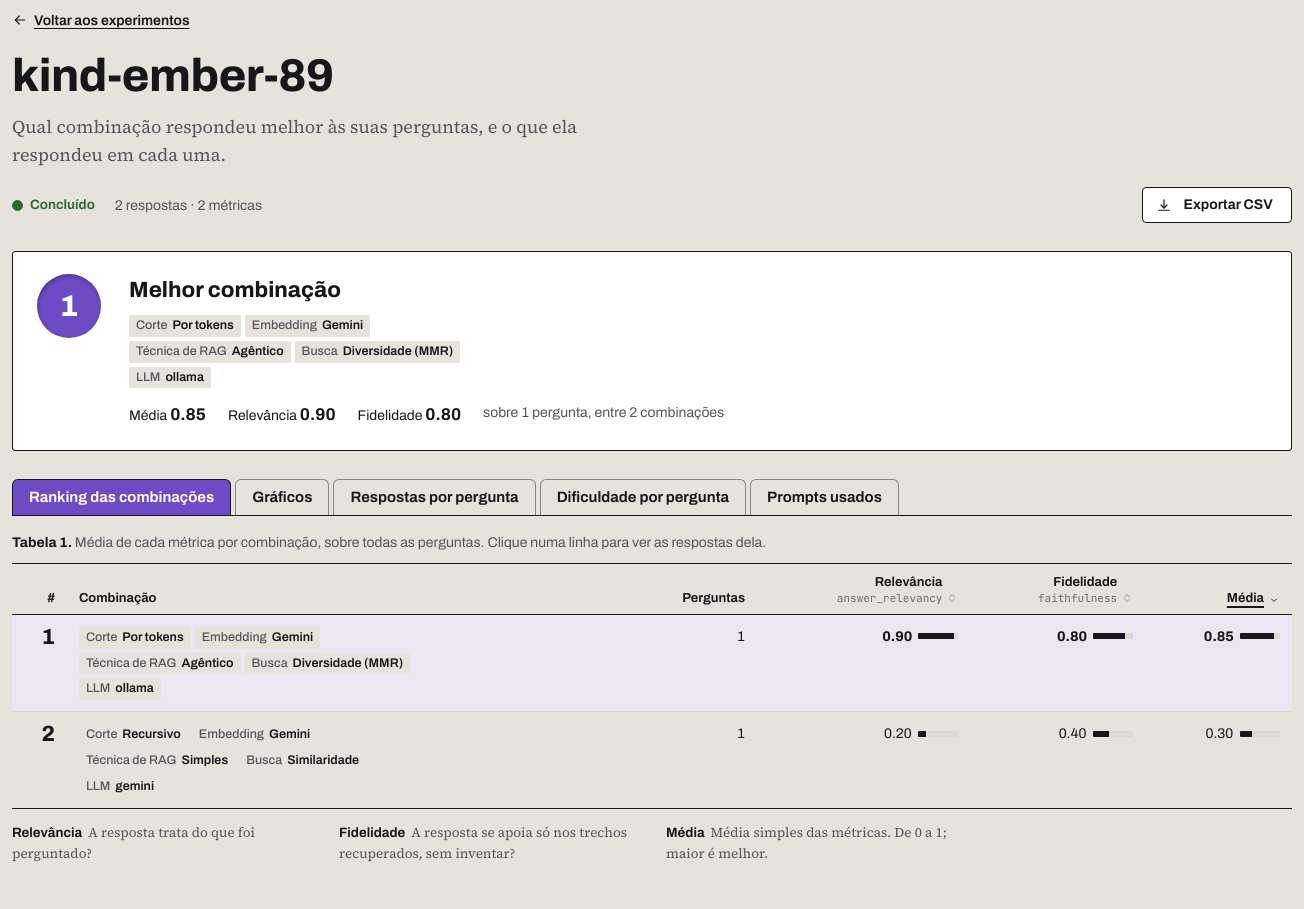
Test case: ExperimentDetailPage › filters rows by retriever (mmr)
Click the tab "Respostas por pergunta": (434, 497) [333, 479, 536, 515]
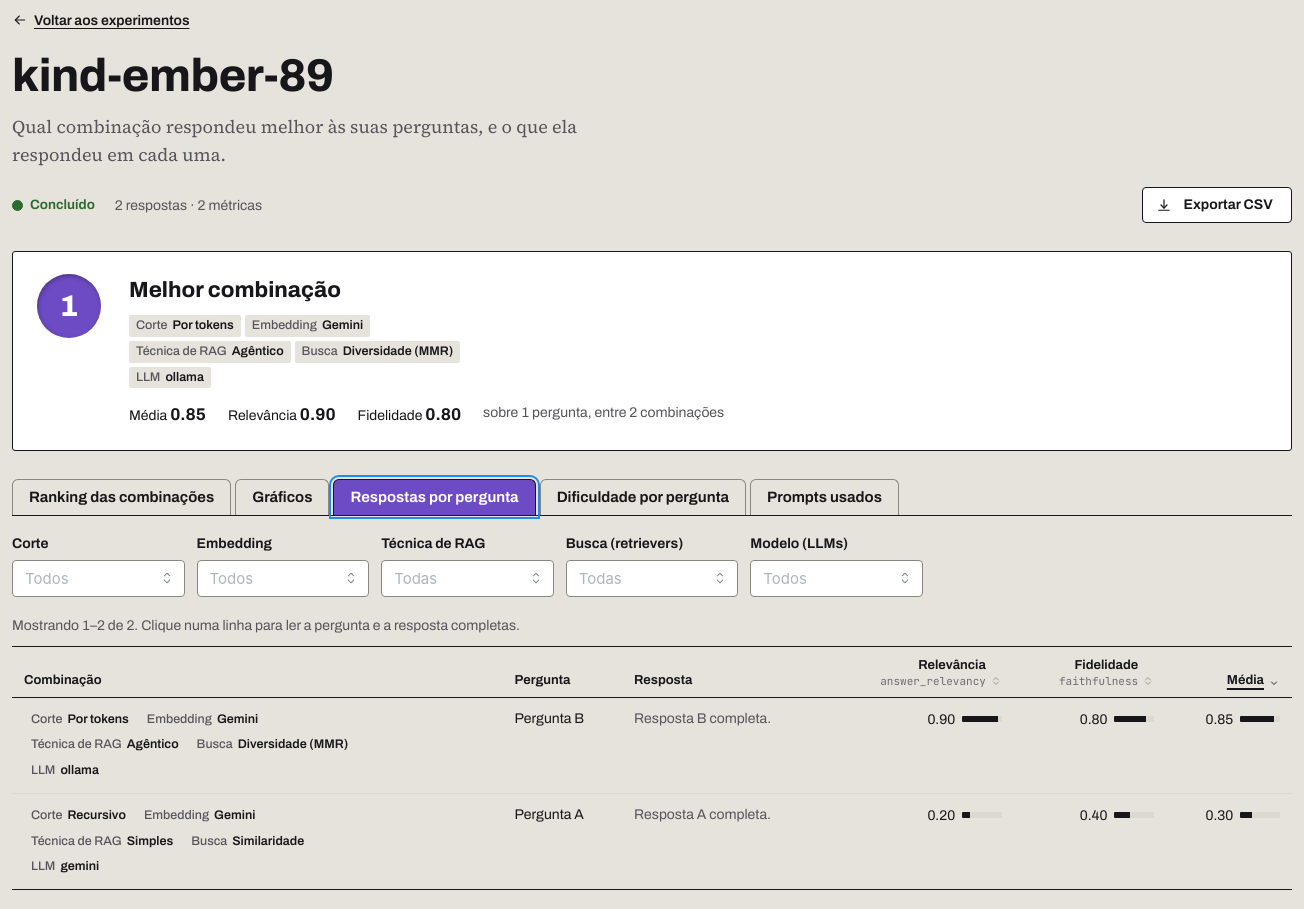
expect the button "Pergunta A" is shown: met, box [515, 805, 584, 824]
Click the field labelled "Busca (retrievers)": (641, 578) [579, 566, 703, 590]
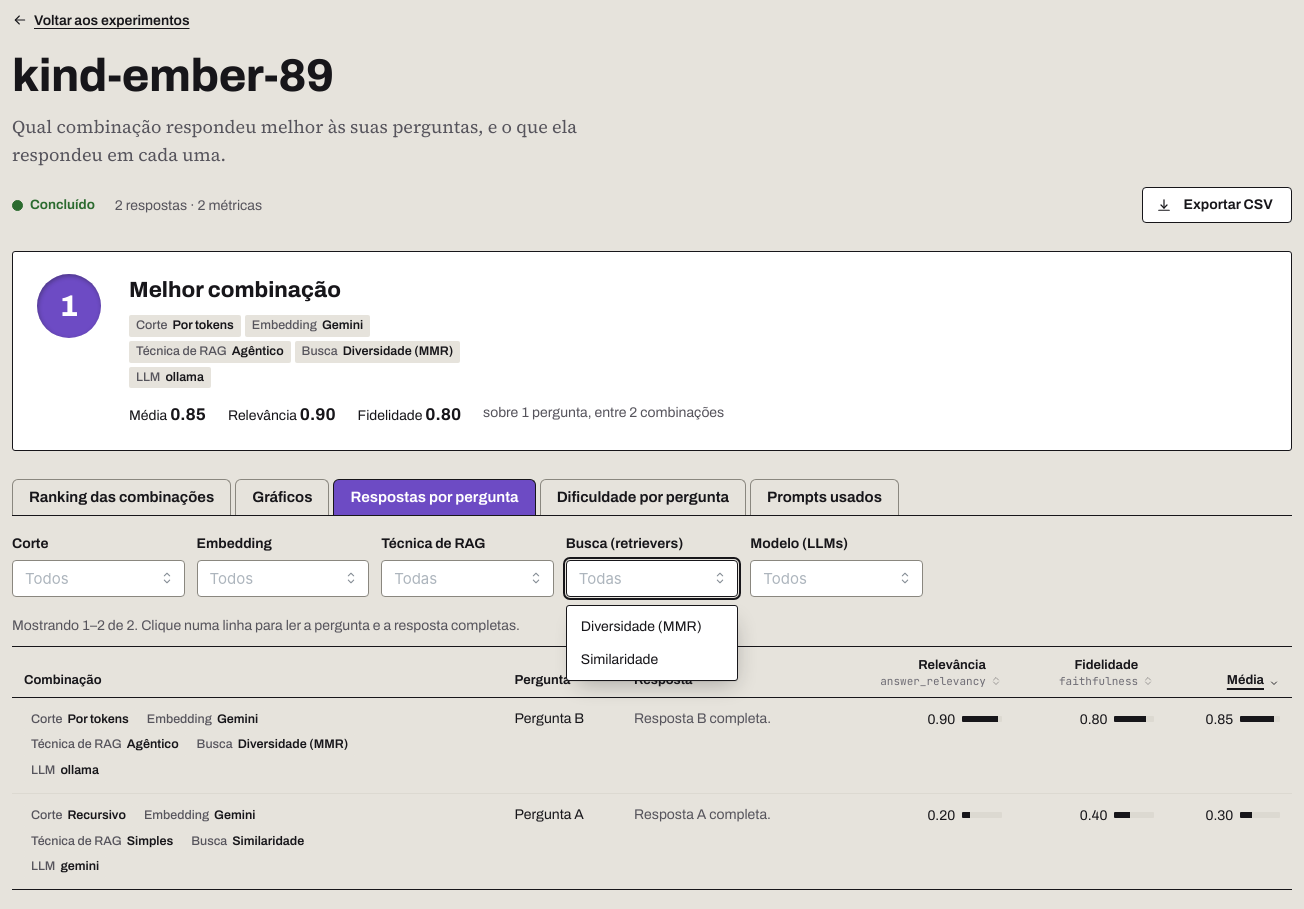
Click the option "Diversidade (MMR)": (641, 626) [581, 619, 702, 634]
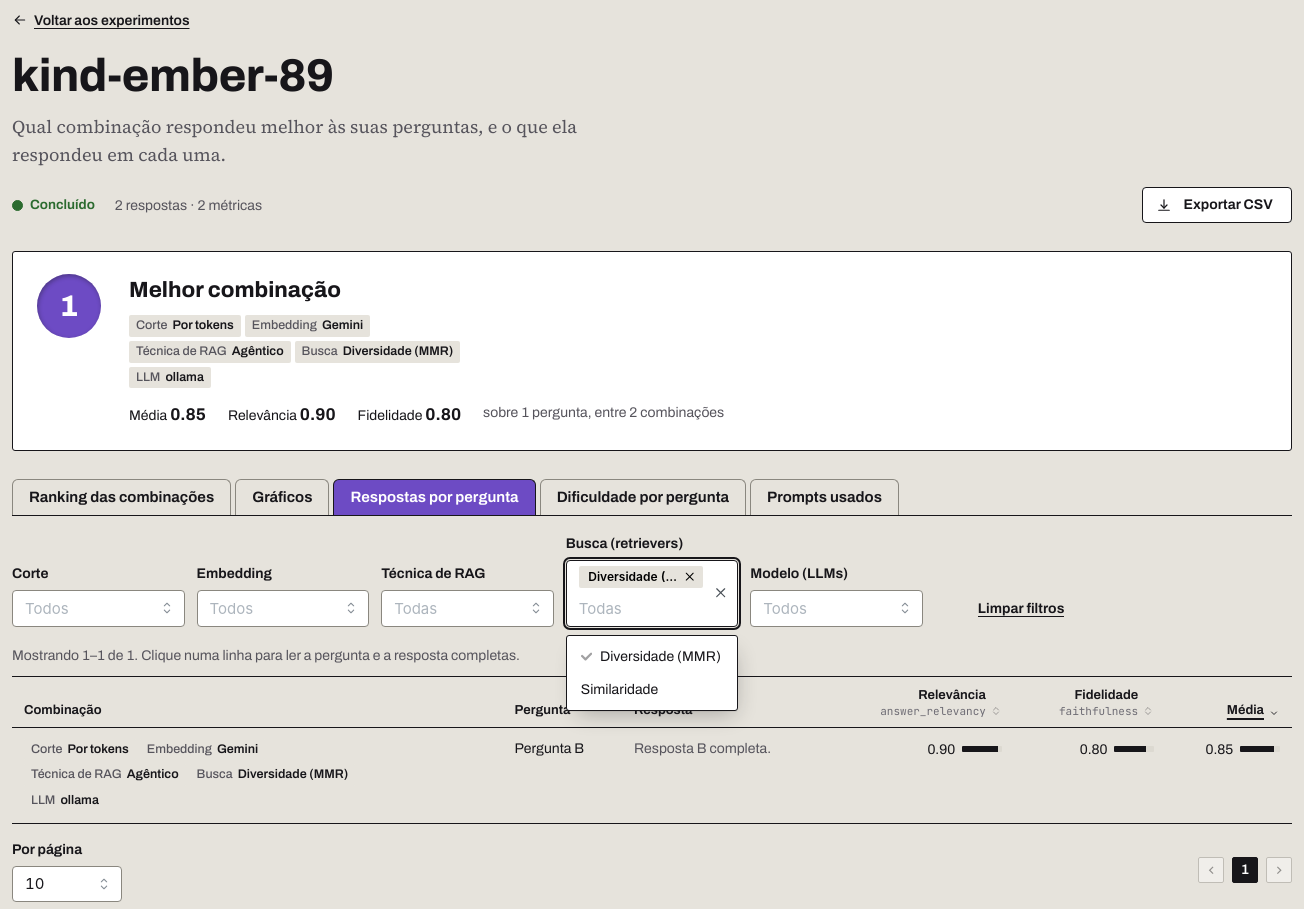
expect the button "Pergunta B" is shown: met, box [515, 739, 584, 758]
expect the button "Pergunta A" is gone: met
